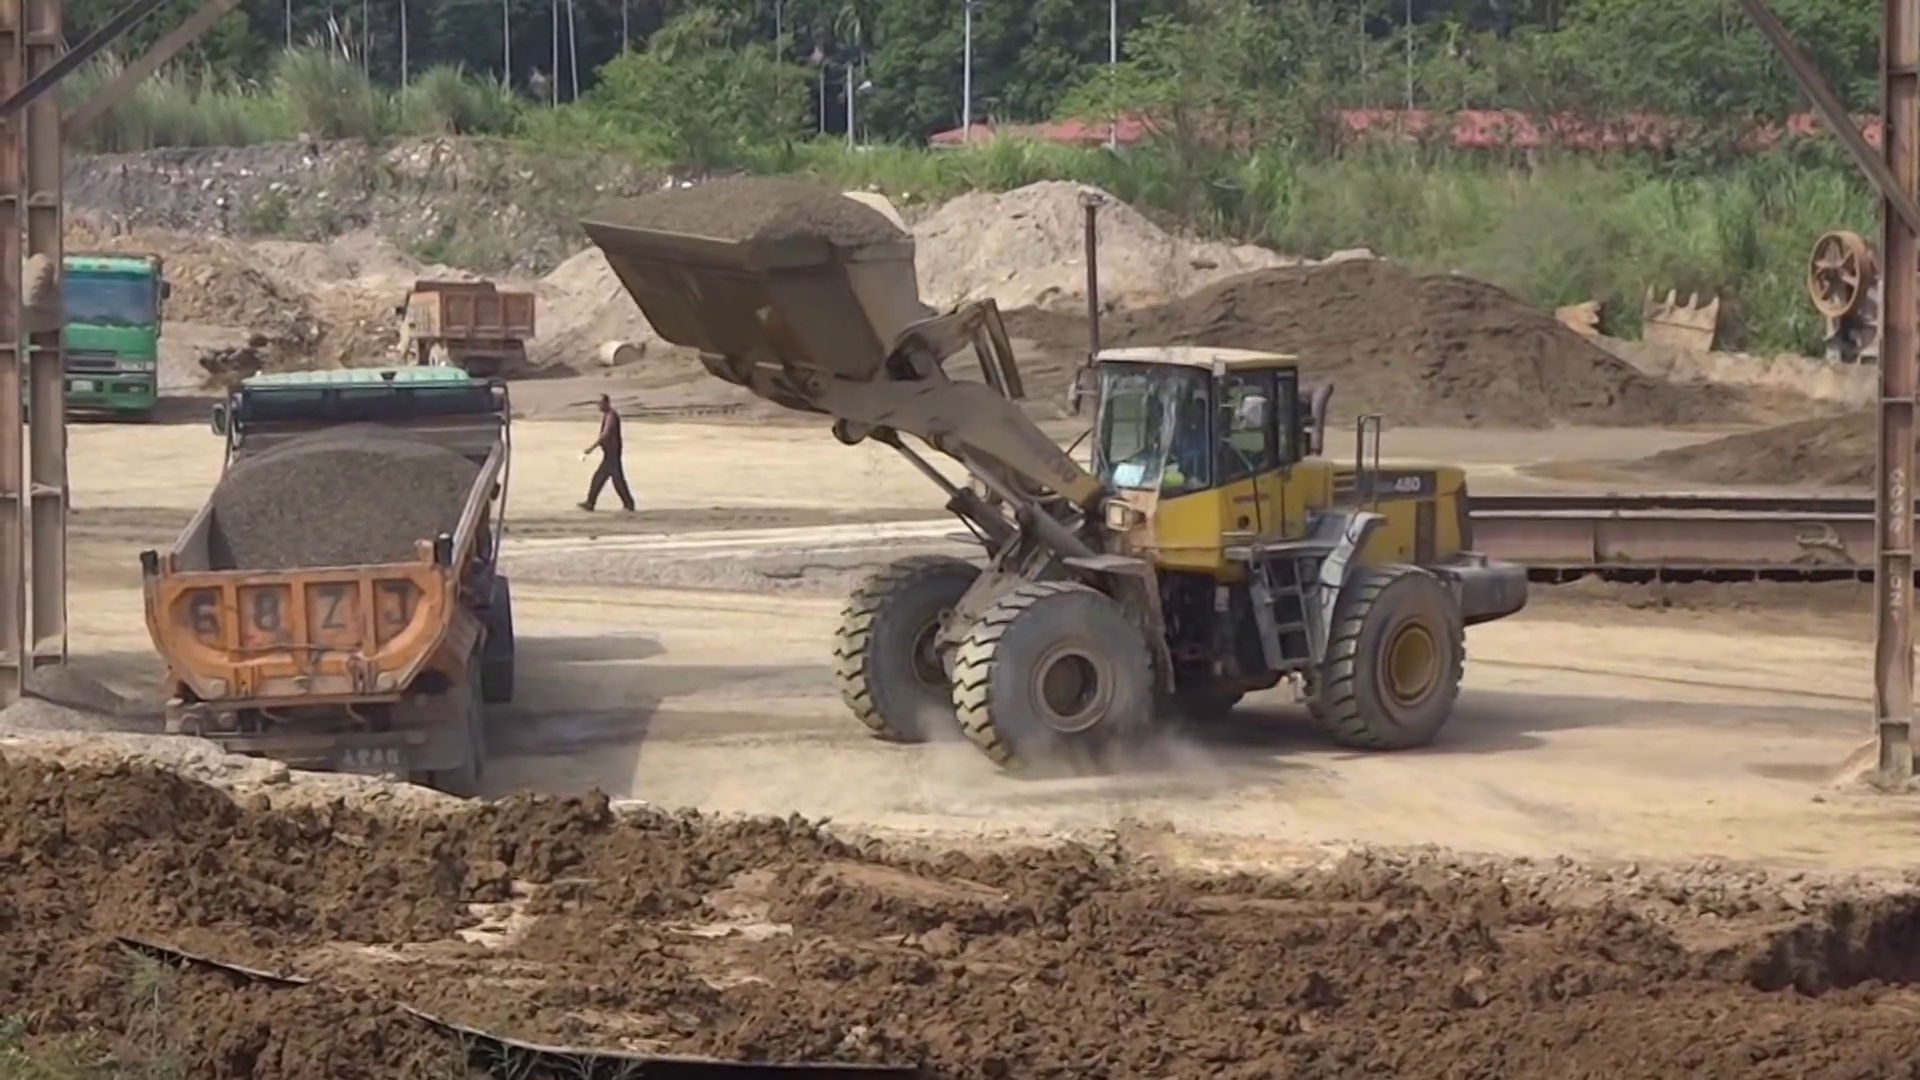person: (584, 391, 634, 518)
truck: (139, 365, 519, 795), (64, 253, 160, 418), (409, 273, 534, 374)
wheel loader: (584, 182, 1530, 774)
